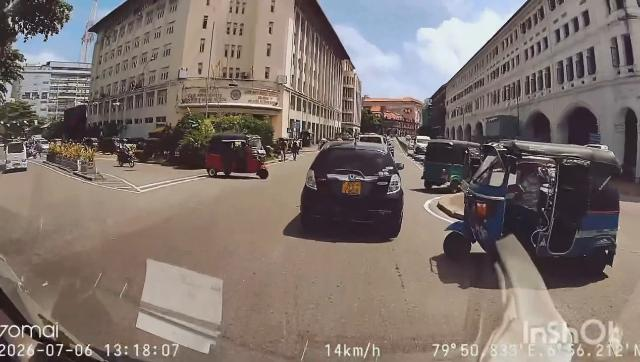number plate: (343, 180, 366, 203)
